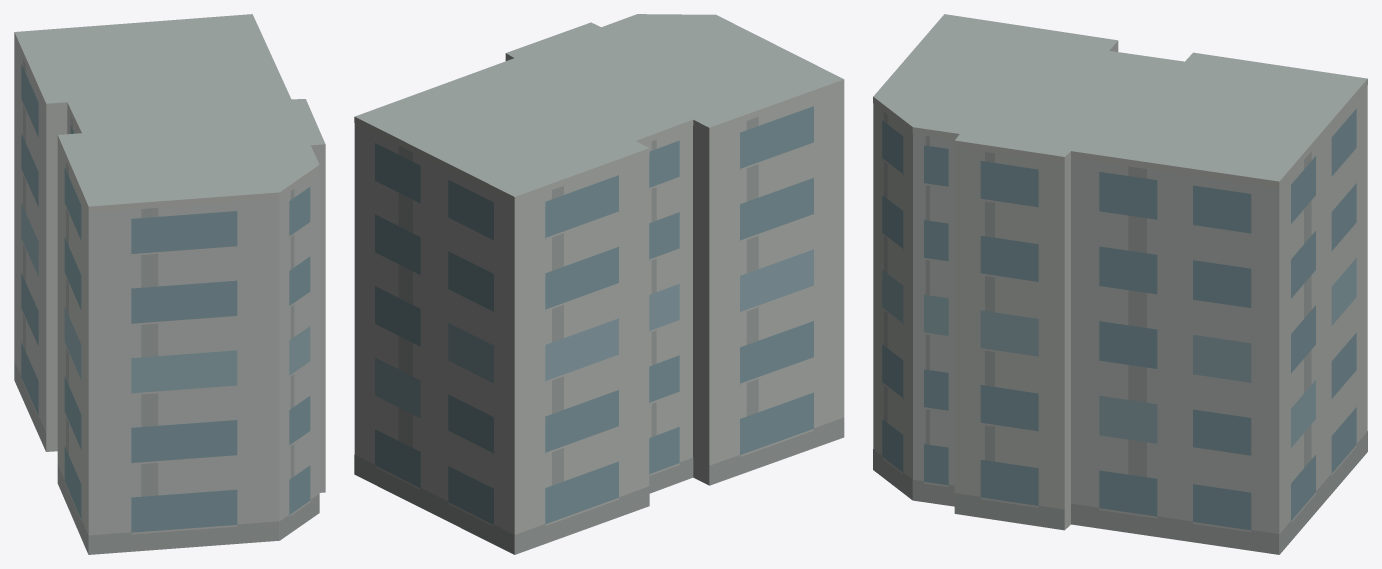
The model's file is survey-upis-32850279.glb.
3 renders of one model, left to right at view 1: azimuth 30°, elevation 25°; view 2: azimuth 150°, elevation 25°; view 3: azimuth 270°, elevation 25°, orthographic. The views are drawn at different scales.
Visible parts, largest first — view 1: survey-upis-32850279.tmp; view 2: survey-upis-32850279.tmp; view 3: survey-upis-32850279.tmp.
Boxes of the visible parts, box(x1,y1,x2,y2) form: survey-upis-32850279.tmp: box(14, 14, 325, 554); survey-upis-32850279.tmp: box(354, 14, 844, 554); survey-upis-32850279.tmp: box(873, 14, 1367, 554).
Size of the model in its own units: 12.76 by 13.25 by 15.92.
